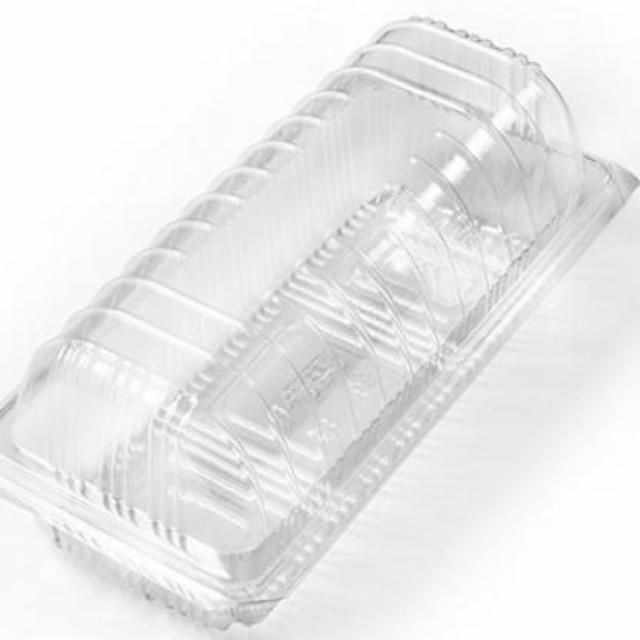plastic_box: (0, 24, 638, 630)
